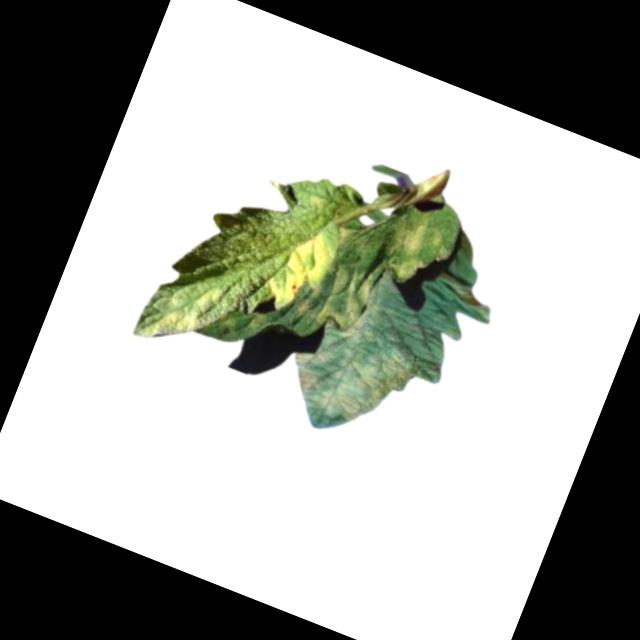Leaf_Mold: (272, 307, 424, 450), (261, 218, 344, 318), (147, 265, 231, 355), (376, 215, 447, 293), (313, 257, 380, 339)
